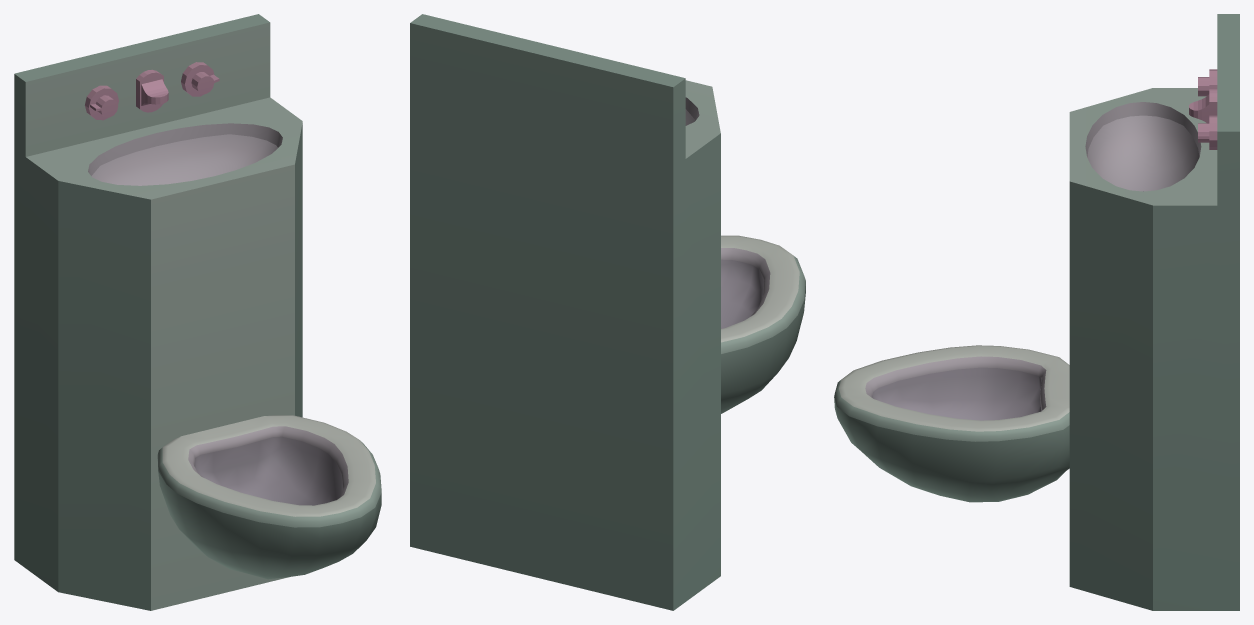
Rendered from toilet.fbx.
The picture shows the model from 3 angles, left to right: view 1: azimuth 30°, elevation 25°; view 2: azimuth 150°, elevation 25°; view 3: azimuth 270°, elevation 25°; orthographic projection. The views are drawn at different scales.
Parts seen in each view (by area): view 1: toilet1; view 2: toilet1; view 3: toilet1.
Part boxes in pixels (left/top/right/bottom): toilet1: left=14, top=14, right=381, bottom=610; toilet1: left=410, top=14, right=805, bottom=610; toilet1: left=834, top=14, right=1239, bottom=610.
Bounding box in the file's own units: 238 × 452 × 347.
1 material, 1 textured.
